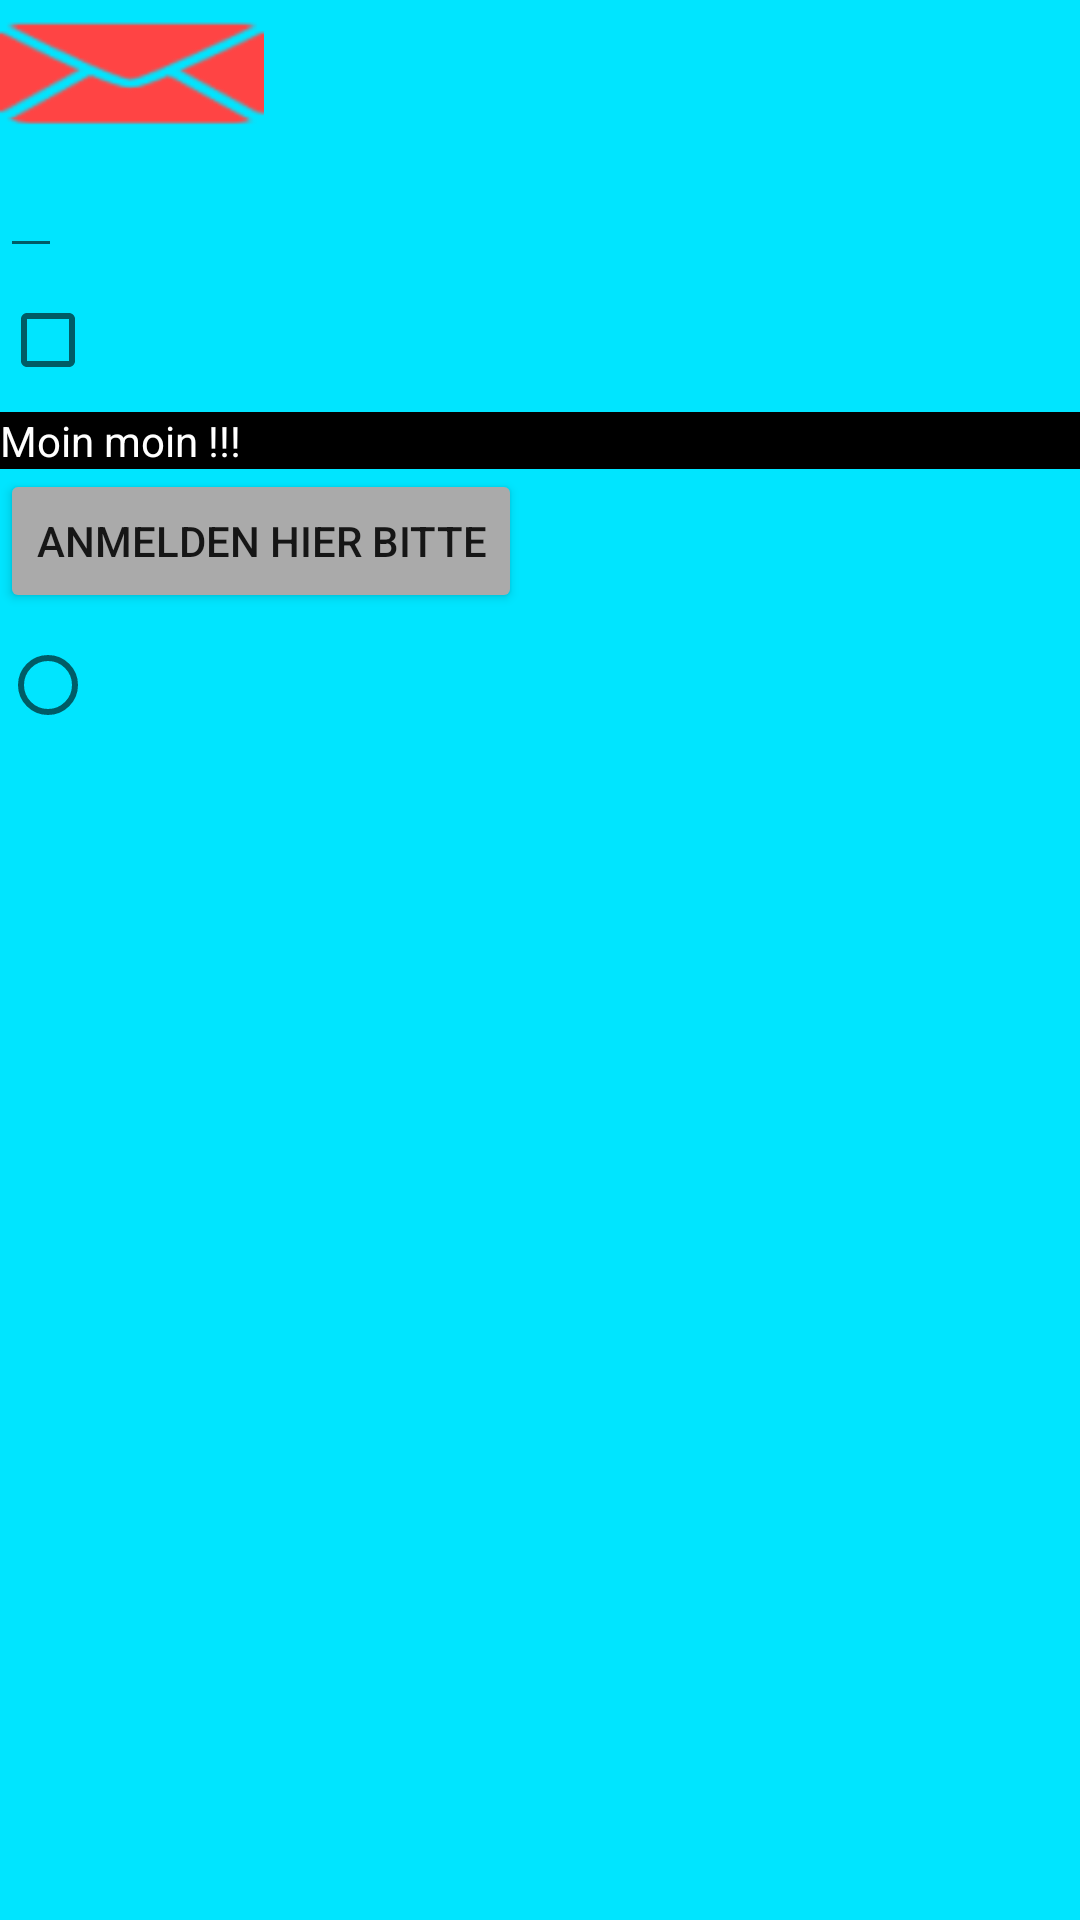

Icons on this 1080x1920 Android screen, each with the point to tap as (x=x, y=y):
email: (x=132, y=73)
